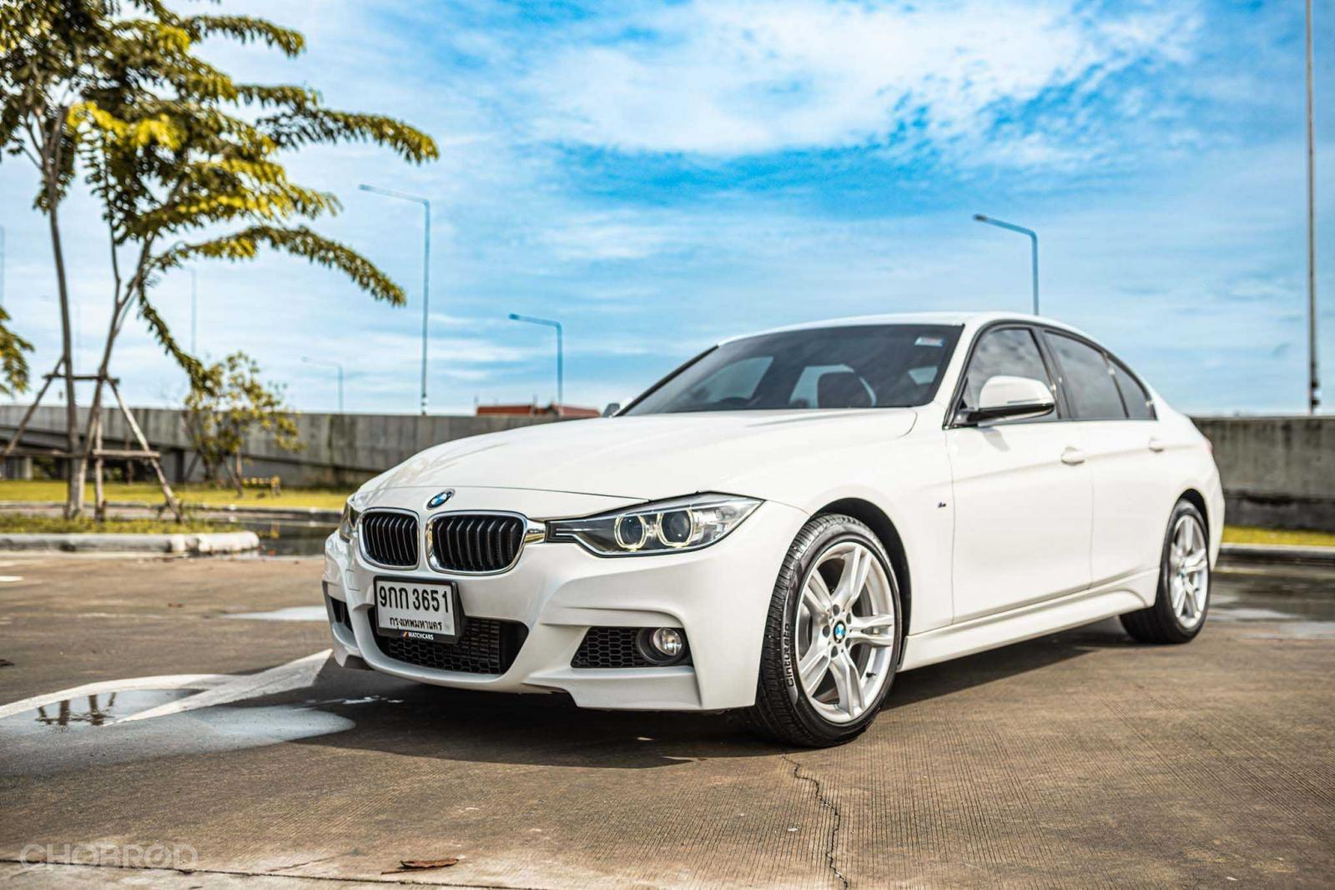license-plate: (370, 570, 466, 648)
